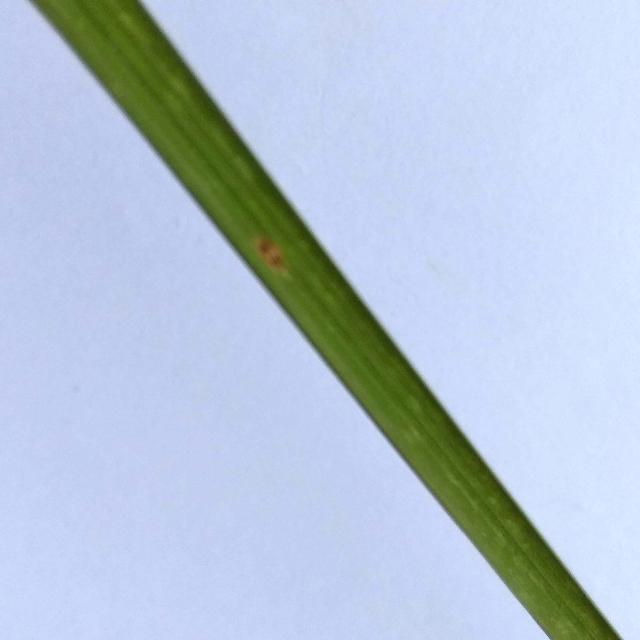Blast: (258, 235, 292, 272)
